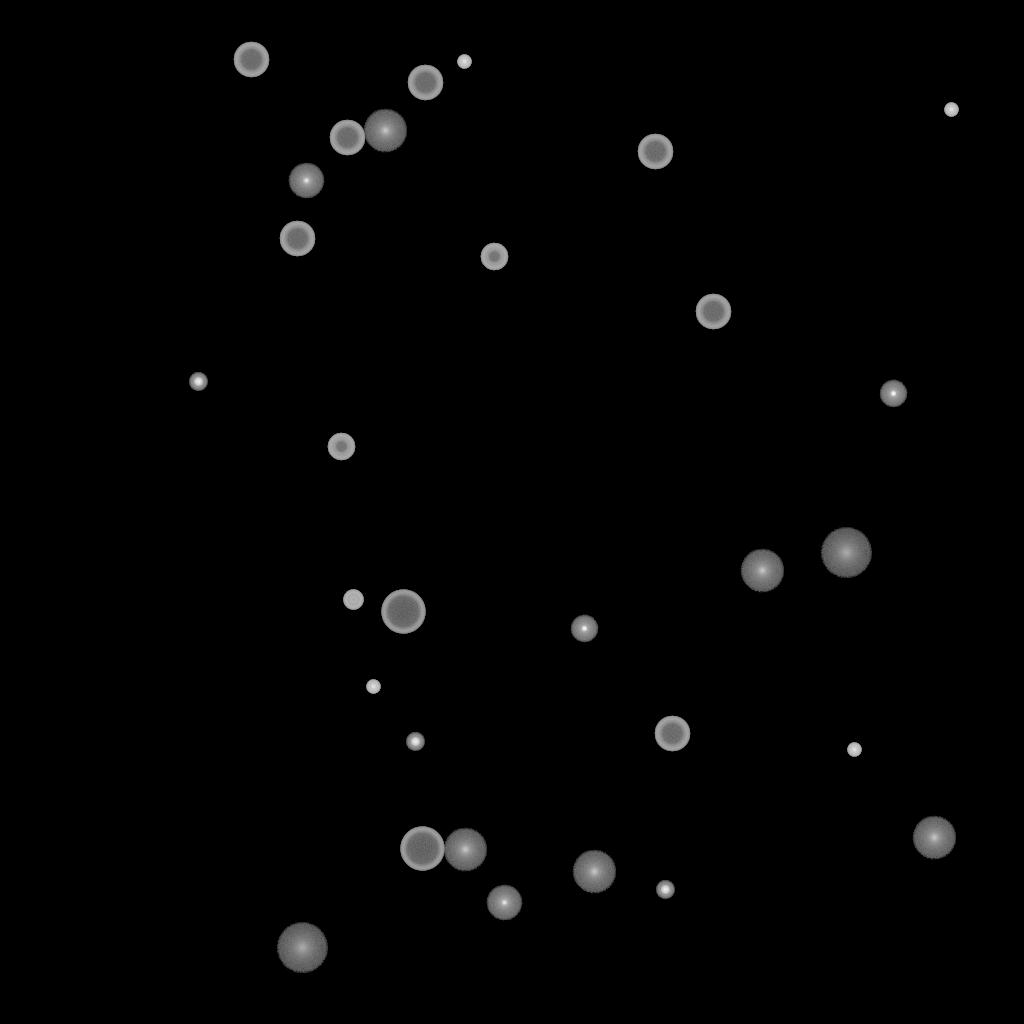depth:-10: (879, 380, 907, 408), (570, 615, 598, 643)
depth:-20: (189, 373, 207, 391), (656, 881, 674, 899), (406, 733, 424, 751)
depth:-30: (847, 743, 861, 757), (457, 55, 471, 69), (366, 680, 380, 694), (944, 103, 958, 117)
depth:-40: (343, 590, 363, 610)
depth:-50: (480, 243, 508, 271), (327, 433, 355, 461)
depth:-60: (637, 134, 673, 170), (695, 294, 731, 330), (329, 120, 365, 156), (407, 65, 443, 101), (279, 221, 315, 257), (233, 42, 269, 78), (654, 716, 690, 752)
depth:-70: (381, 590, 425, 634), (400, 827, 444, 871)
depth:0: (288, 163, 324, 199), (486, 885, 522, 921)
depth:10: (443, 828, 487, 872), (912, 816, 956, 860), (363, 109, 407, 153), (740, 549, 784, 593), (572, 850, 616, 894)
depth:20: (276, 923, 328, 973), (820, 528, 872, 578)
